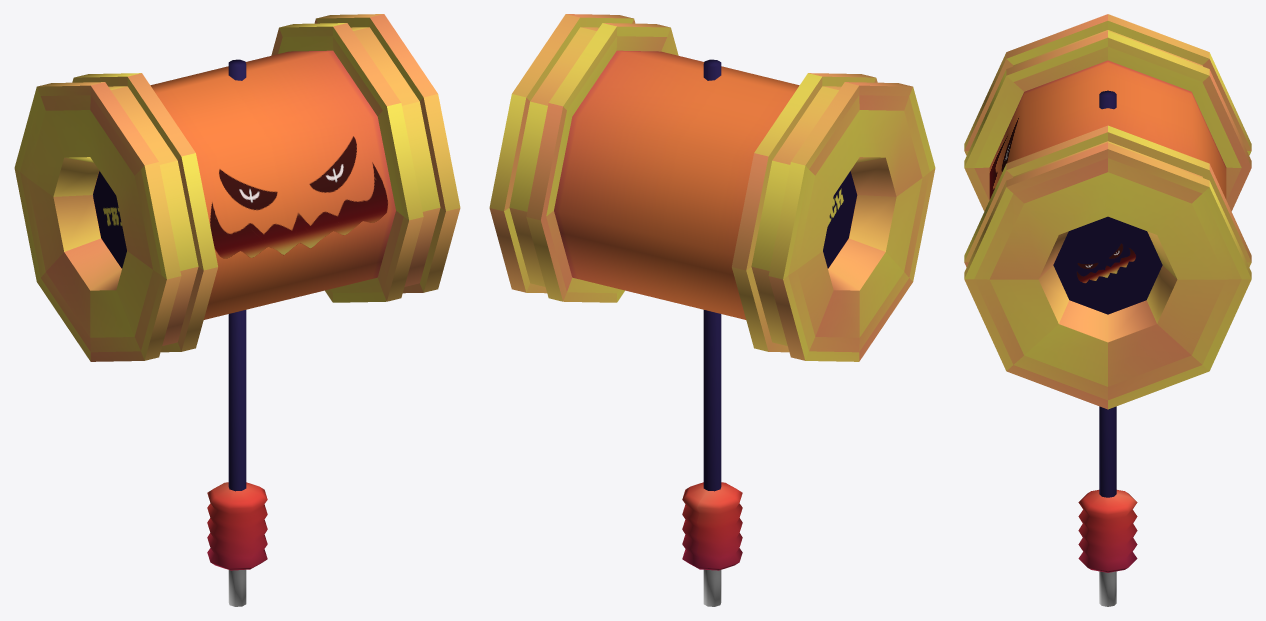
The model's file is Trick_Bonk.fbx.
3 views of the same model, side by side, from view 1: azimuth 30°, elevation 25°; view 2: azimuth 150°, elevation 25°; view 3: azimuth 270°, elevation 25° (orthographic). The views are drawn at different scales.
Parts seen in each view (by area): view 1: Trick_Bonk; view 2: Trick_Bonk; view 3: Trick_Bonk.
Part boxes in pixels (<box>): Trick_Bonk: <box>14,14,460,606</box>; Trick_Bonk: <box>489,14,935,606</box>; Trick_Bonk: <box>964,14,1251,606</box>.
Bounding box in the file's own units: 987 × 1773 × 885.
1 material, 1 textured.
